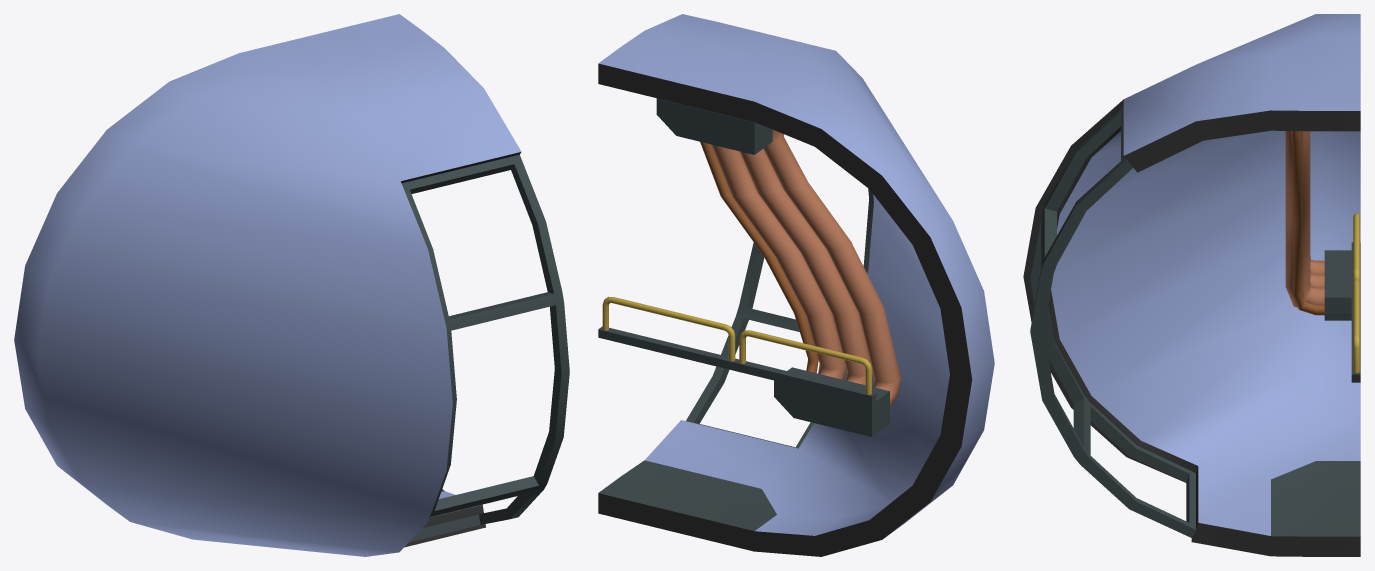
File: Block_left.fbx
The picture shows the model from 3 angles, left to right: view 1: azimuth 30°, elevation 25°; view 2: azimuth 150°, elevation 25°; view 3: azimuth 270°, elevation 25°; orthographic projection. The views are drawn at different scales.
Visible parts, largest first — view 1: Block_left; view 2: Block_left; view 3: Block_left.
Part boxes in pixels (bbox=[...]): Block_left: bbox=[14, 14, 569, 556]; Block_left: bbox=[598, 14, 994, 556]; Block_left: bbox=[1023, 14, 1360, 556].
Size of the model in its own units: 9.57 by 11 by 7.54.
